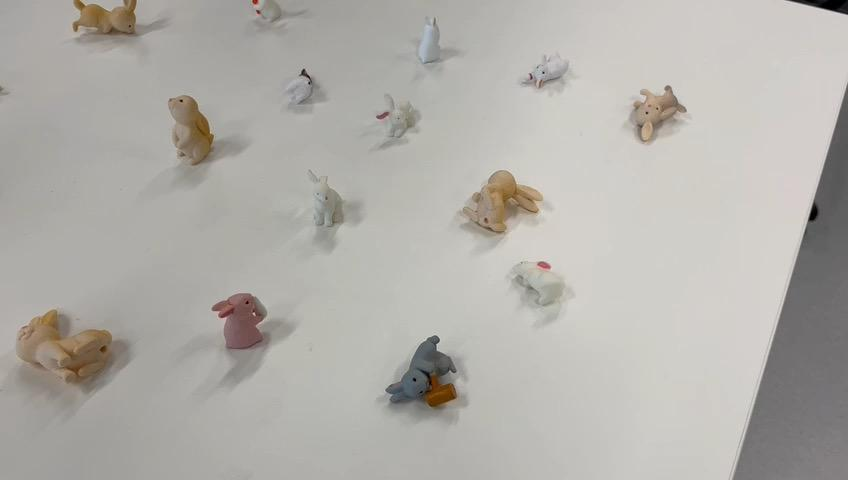pet: (9, 307, 125, 383), (385, 327, 465, 417), (459, 164, 551, 232), (155, 90, 225, 172), (301, 158, 358, 232), (619, 78, 680, 146), (212, 287, 269, 357), (511, 255, 568, 318), (513, 47, 579, 96), (368, 88, 421, 147), (65, 0, 145, 38), (279, 61, 326, 107), (415, 10, 449, 73), (245, 0, 285, 30)
